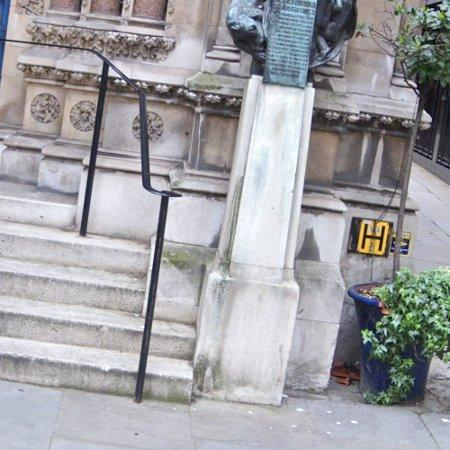stairs: (0, 181, 149, 396), (145, 296, 195, 402)
